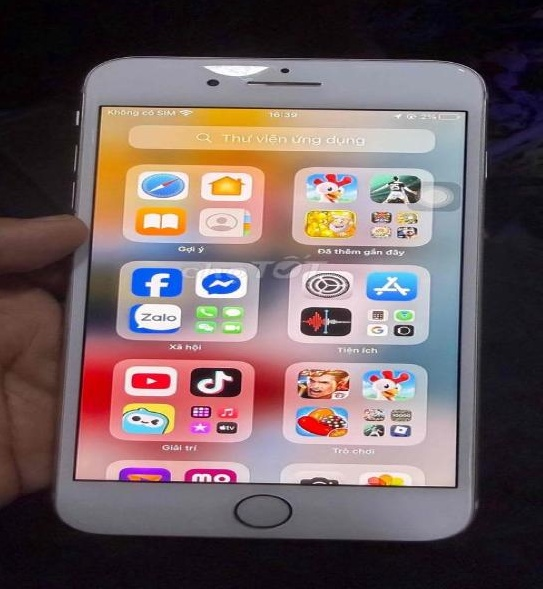scratch: (75, 72, 88, 125), (444, 61, 474, 74)
screen_defect: (202, 59, 273, 82)
